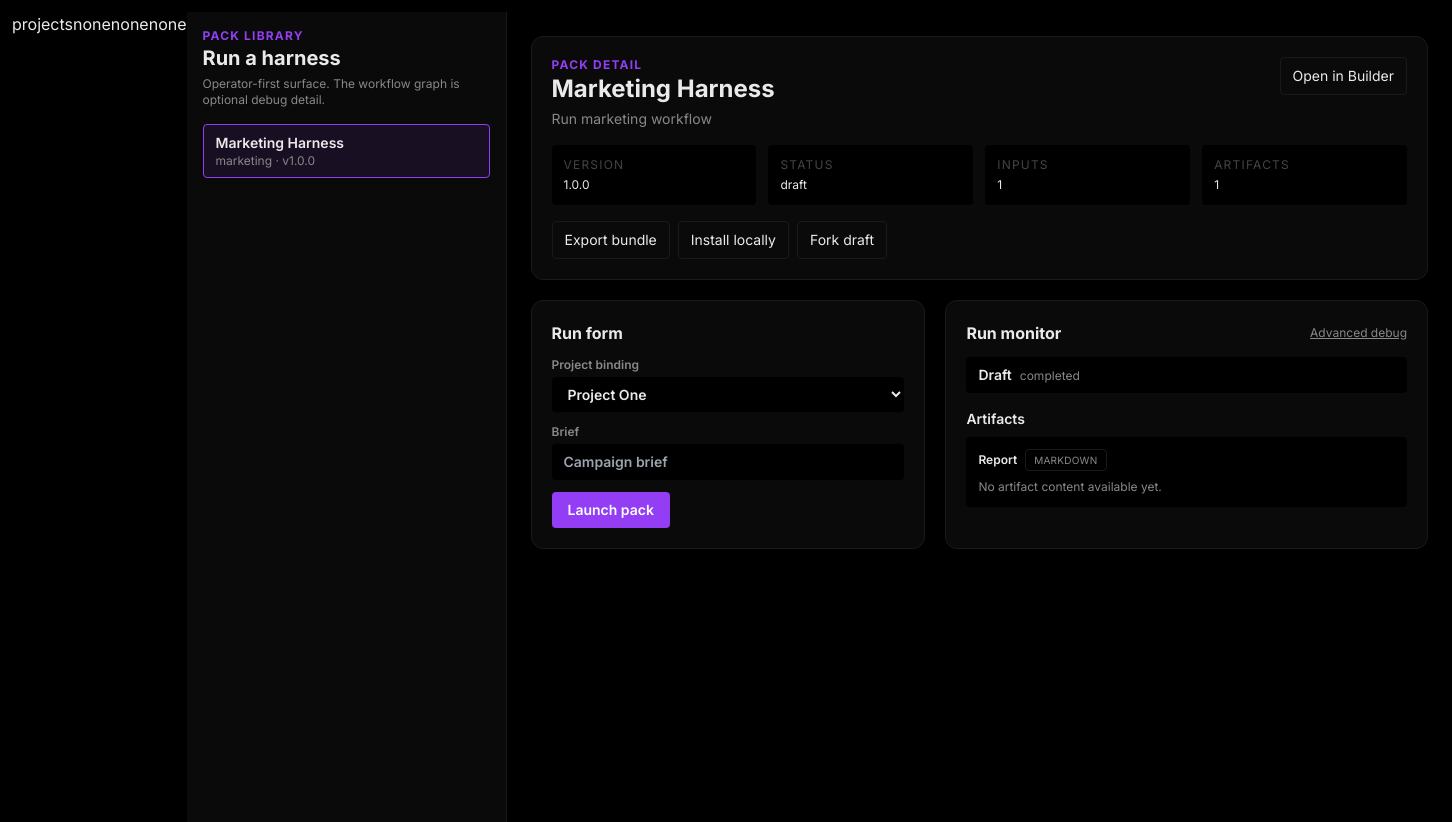
PackLibraryView › uses the hydrated pack runtime execution id when opening the builder after local run state is gone
The width and height of the screenshot is (1452, 822).
Expected: the text "Pack Detail" is shown, [552,57,642,72]
Click the button "Open in Builder": (1343, 76) [1280,57,1407,95]
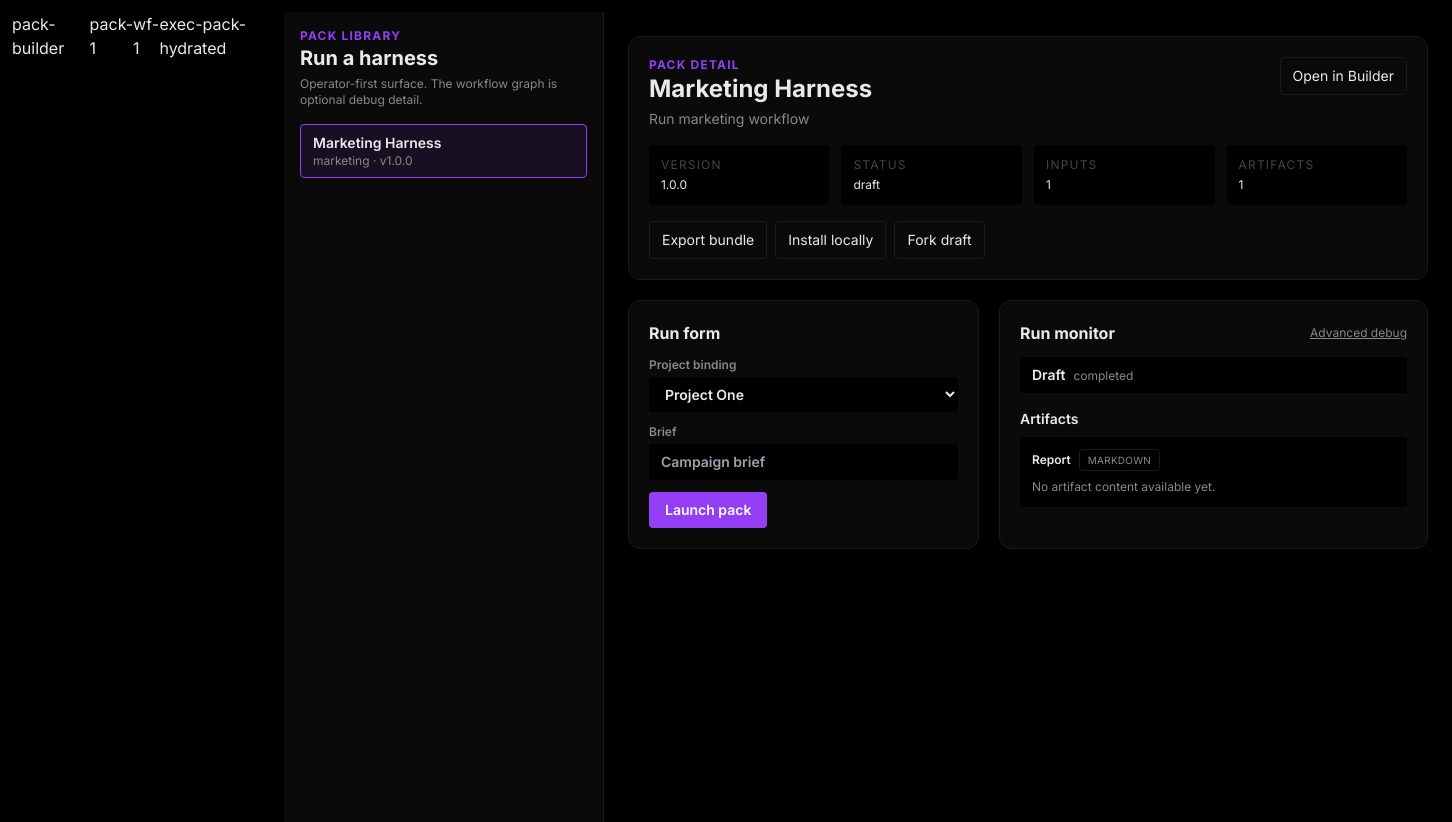
Result: the text with test id "nav-execution-id" reads "exec-pack-hydrated" at [159,14,246,58]
